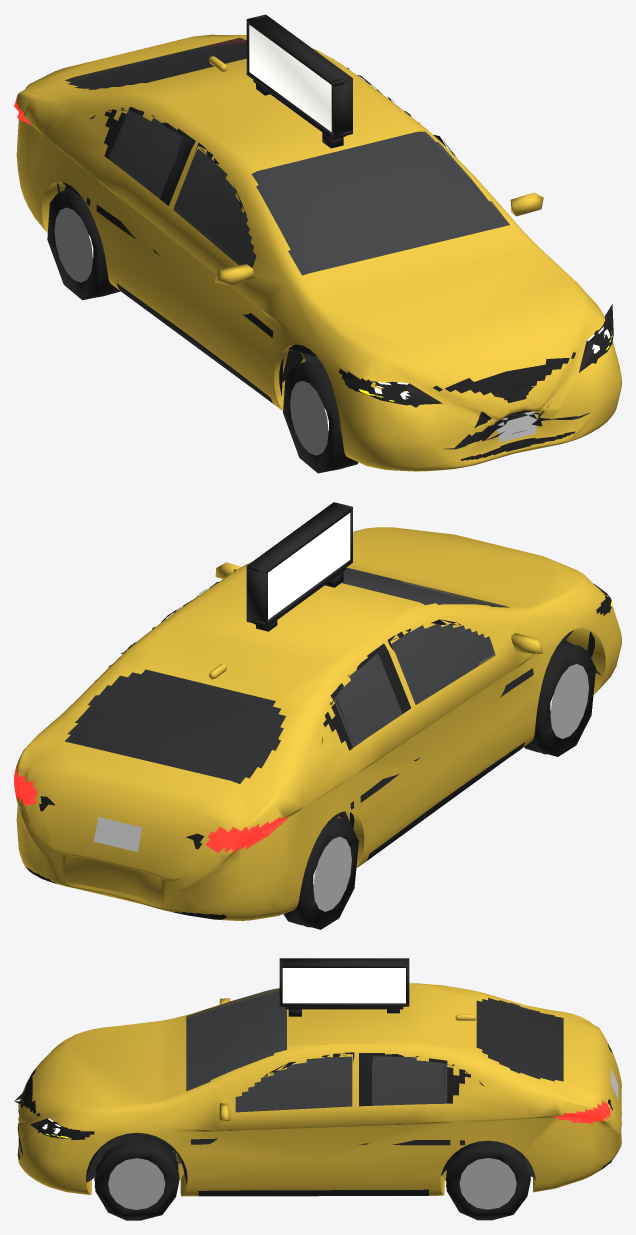
Rendered from taxiAdBoard-lod2.glb.
3 renders of one model, top to bottom at view 1: azimuth 30°, elevation 25°; view 2: azimuth 150°, elevation 25°; view 3: azimuth 270°, elevation 25°, orthographic. The views are drawn at different scales.
Visible parts, largest first — view 1: Body, Body_Lining, Body_Trim, TaxiSign, Wheel_FR_Tyre, Wheel_RR_Tyre, Wheel_FR_Face, Wheel_RR_Face, AdBoardFrameTop, AdBoardFrameEndF, PlateFront, Arch_F_R_Liner (+1 smaller); view 2: Body, Body_Lining, TaxiSign, Wheel_FR_Tyre, Wheel_RR_Tyre, Wheel_RR_Face, Wheel_FR_Face, AdBoardFrameTop, PlateRear, AdBoardFrameEndB, Body_Trim; view 3: Body, Body_Lining, TaxiSign, Wheel_FL_Tyre, Wheel_RL_Tyre, Wheel_FL_Face, Wheel_RL_Face, Body_Trim, AdBoardFrameTop, Arch_F_L_Liner, AdBoardFrameBottom, TaxiSignBase.
Part boxes in pixels (bbox=[...]): Body: bbox=[14, 34, 621, 471]; Body_Lining: bbox=[77, 43, 508, 275]; Body_Trim: bbox=[17, 59, 613, 449]; TaxiSign: bbox=[249, 25, 331, 131]; Wheel_FR_Tyre: bbox=[283, 361, 358, 473]; Wheel_RR_Tyre: bbox=[47, 188, 120, 300]; Wheel_FR_Face: bbox=[290, 380, 328, 455]; Wheel_RR_Face: bbox=[54, 207, 92, 282]; AdBoardFrameTop: bbox=[246, 16, 352, 86]; AdBoardFrameEndF: bbox=[331, 78, 352, 138]; PlateFront: bbox=[496, 411, 536, 442]; Arch_F_R_Liner: bbox=[279, 344, 341, 435]; Body: bbox=[14, 527, 621, 920]; Body_Lining: bbox=[66, 571, 494, 781]; TaxiSign: bbox=[268, 513, 350, 619]; Wheel_FR_Tyre: bbox=[524, 640, 595, 756]; Wheel_RR_Tyre: bbox=[283, 817, 358, 929]; Wheel_RR_Face: bbox=[313, 836, 351, 911]; Wheel_FR_Face: bbox=[550, 664, 588, 738]; AdBoardFrameTop: bbox=[246, 502, 352, 573]; PlateRear: bbox=[94, 817, 142, 851]; AdBoardFrameEndB: bbox=[246, 564, 267, 625]; Body_Trim: bbox=[30, 569, 612, 916]; Body: bbox=[17, 983, 621, 1196]; Body_Lining: bbox=[186, 992, 562, 1111]; TaxiSign: bbox=[282, 968, 405, 1003]; Wheel_FL_Tyre: bbox=[94, 1140, 179, 1220]; Wheel_RL_Tyre: bbox=[445, 1140, 530, 1220]; Wheel_FL_Face: bbox=[108, 1158, 165, 1209]; Wheel_RL_Face: bbox=[459, 1158, 516, 1209]; Body_Trim: bbox=[14, 1052, 612, 1164]; AdBoardFrameTop: bbox=[279, 958, 409, 967]; Arch_F_L_Liner: bbox=[86, 1132, 187, 1184]; AdBoardFrameBottom: bbox=[280, 1003, 408, 1006]; TaxiSignBase: bbox=[285, 1006, 403, 1009].
Bounding box in the file's own units: 2.29 × 1.92 × 4.95.
